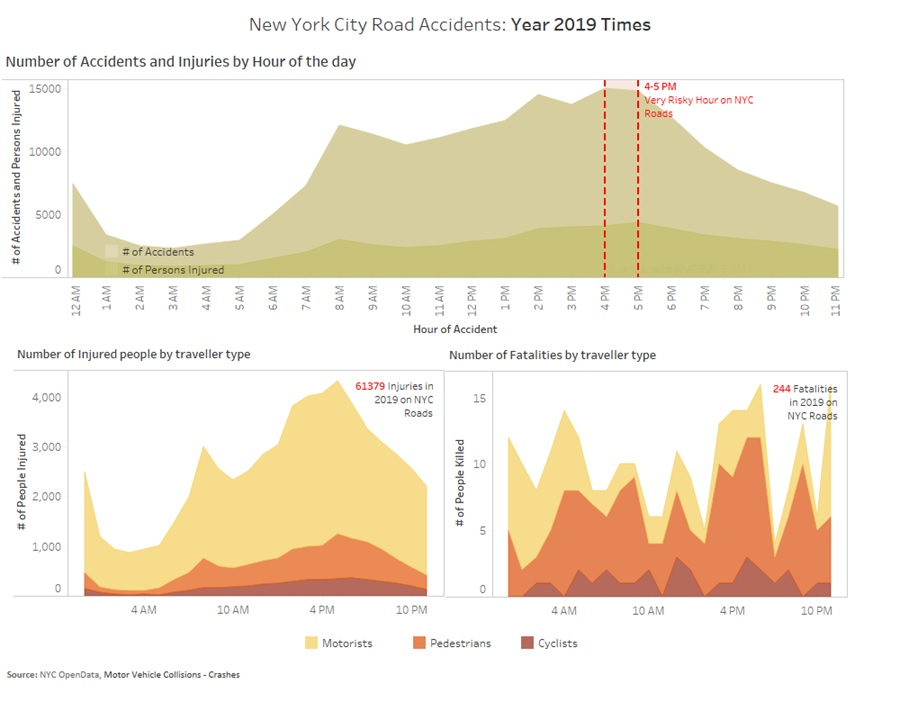

Layout of this report page (visuals, bound fields, positions):
{"tool":"tableau","page":{"name":"Dashboard A","canvas":[800,600],"ordinal":0},"visuals":[{"type":"title","box":[8,8,784,38]},{"type":"image","param":"Image/canada_education.jpg","box":[8,46,784,546]},{"type":"text","box":[405,109,372,404]}]}

Visuals, with their boxes on the page's 800x600 design canvas (x1, y1, x2, y2). These are canvas units, not pixel positions in the 900x720 screenshot, which may show the page scaled, cropped or inside an application window:
title: detection(8, 8, 792, 46)
image: detection(8, 46, 792, 592)
text: detection(405, 109, 777, 513)
